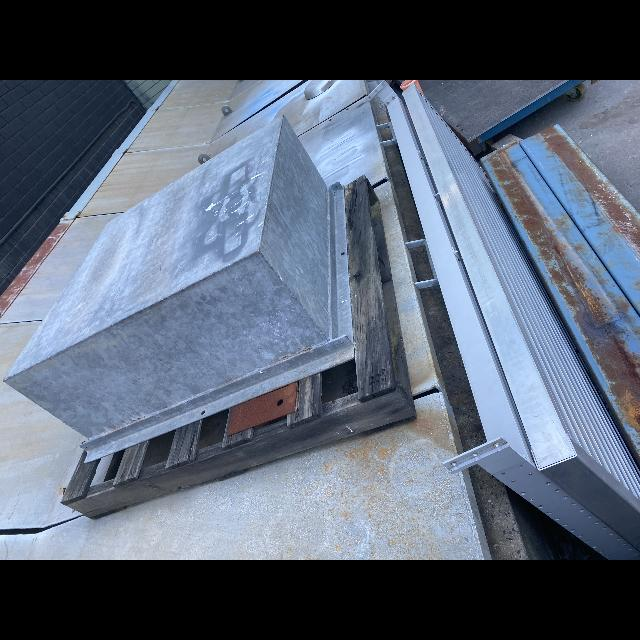Aluminium: (366, 81, 640, 560)
Ferrous Metal: (479, 124, 640, 467), (468, 80, 584, 155), (227, 382, 297, 435)
Galvanized Steel: (4, 116, 353, 461)
